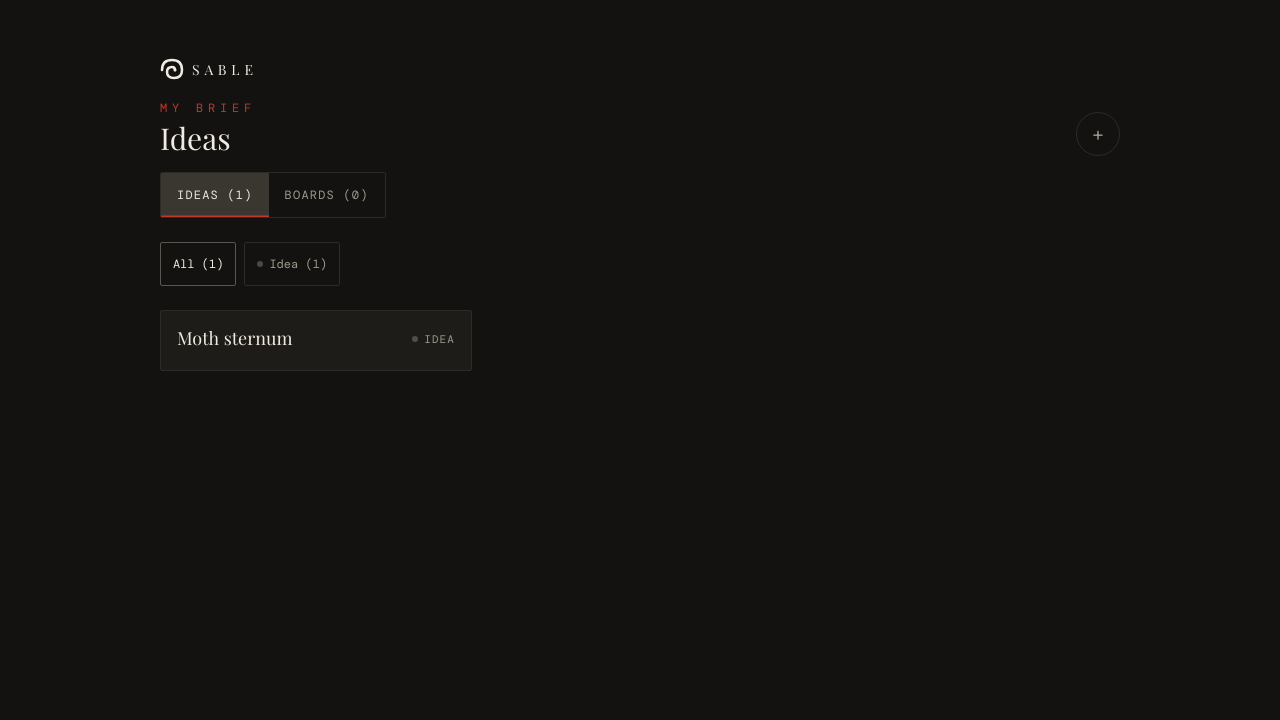
it: idea photos resolve where they render › says so when the saved photo cannot be read, and sends nothing
Click the heading "Moth sternum".
click(235, 338)  # box x1=177 y1=327 x2=292 y2=350
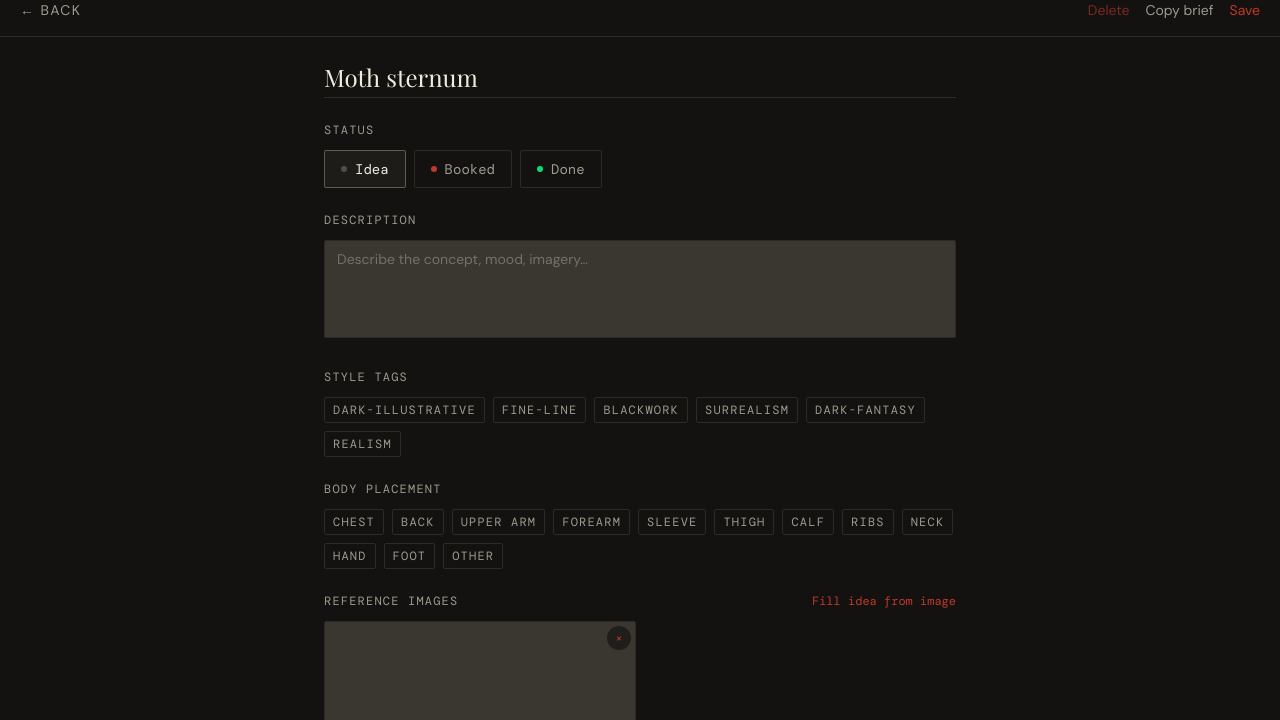
Click the button "Fill idea from image".
click(884, 601)  # box x1=812 y1=593 x2=956 y2=609
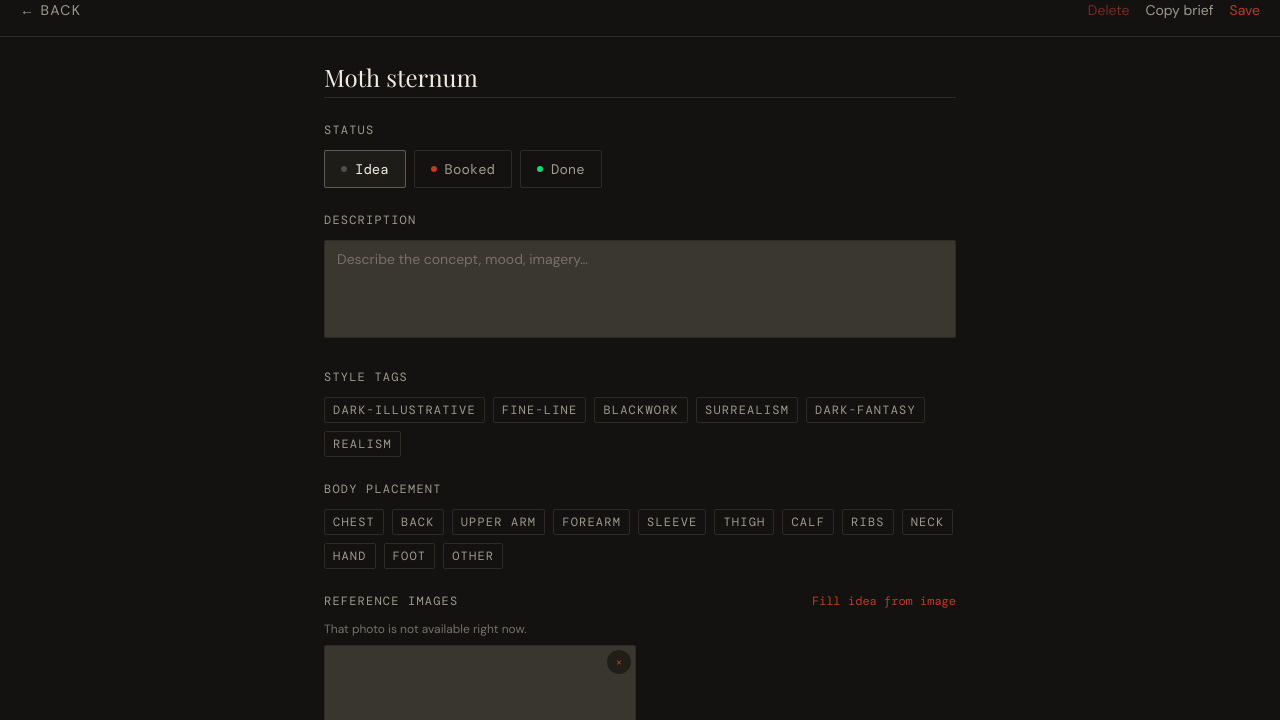
Result: the button "Fill idea from image" is enabled at x1=812 y1=593 x2=956 y2=609
Result: the text "That photo is not available right now." is shown at x1=324 y1=621 x2=527 y2=637
